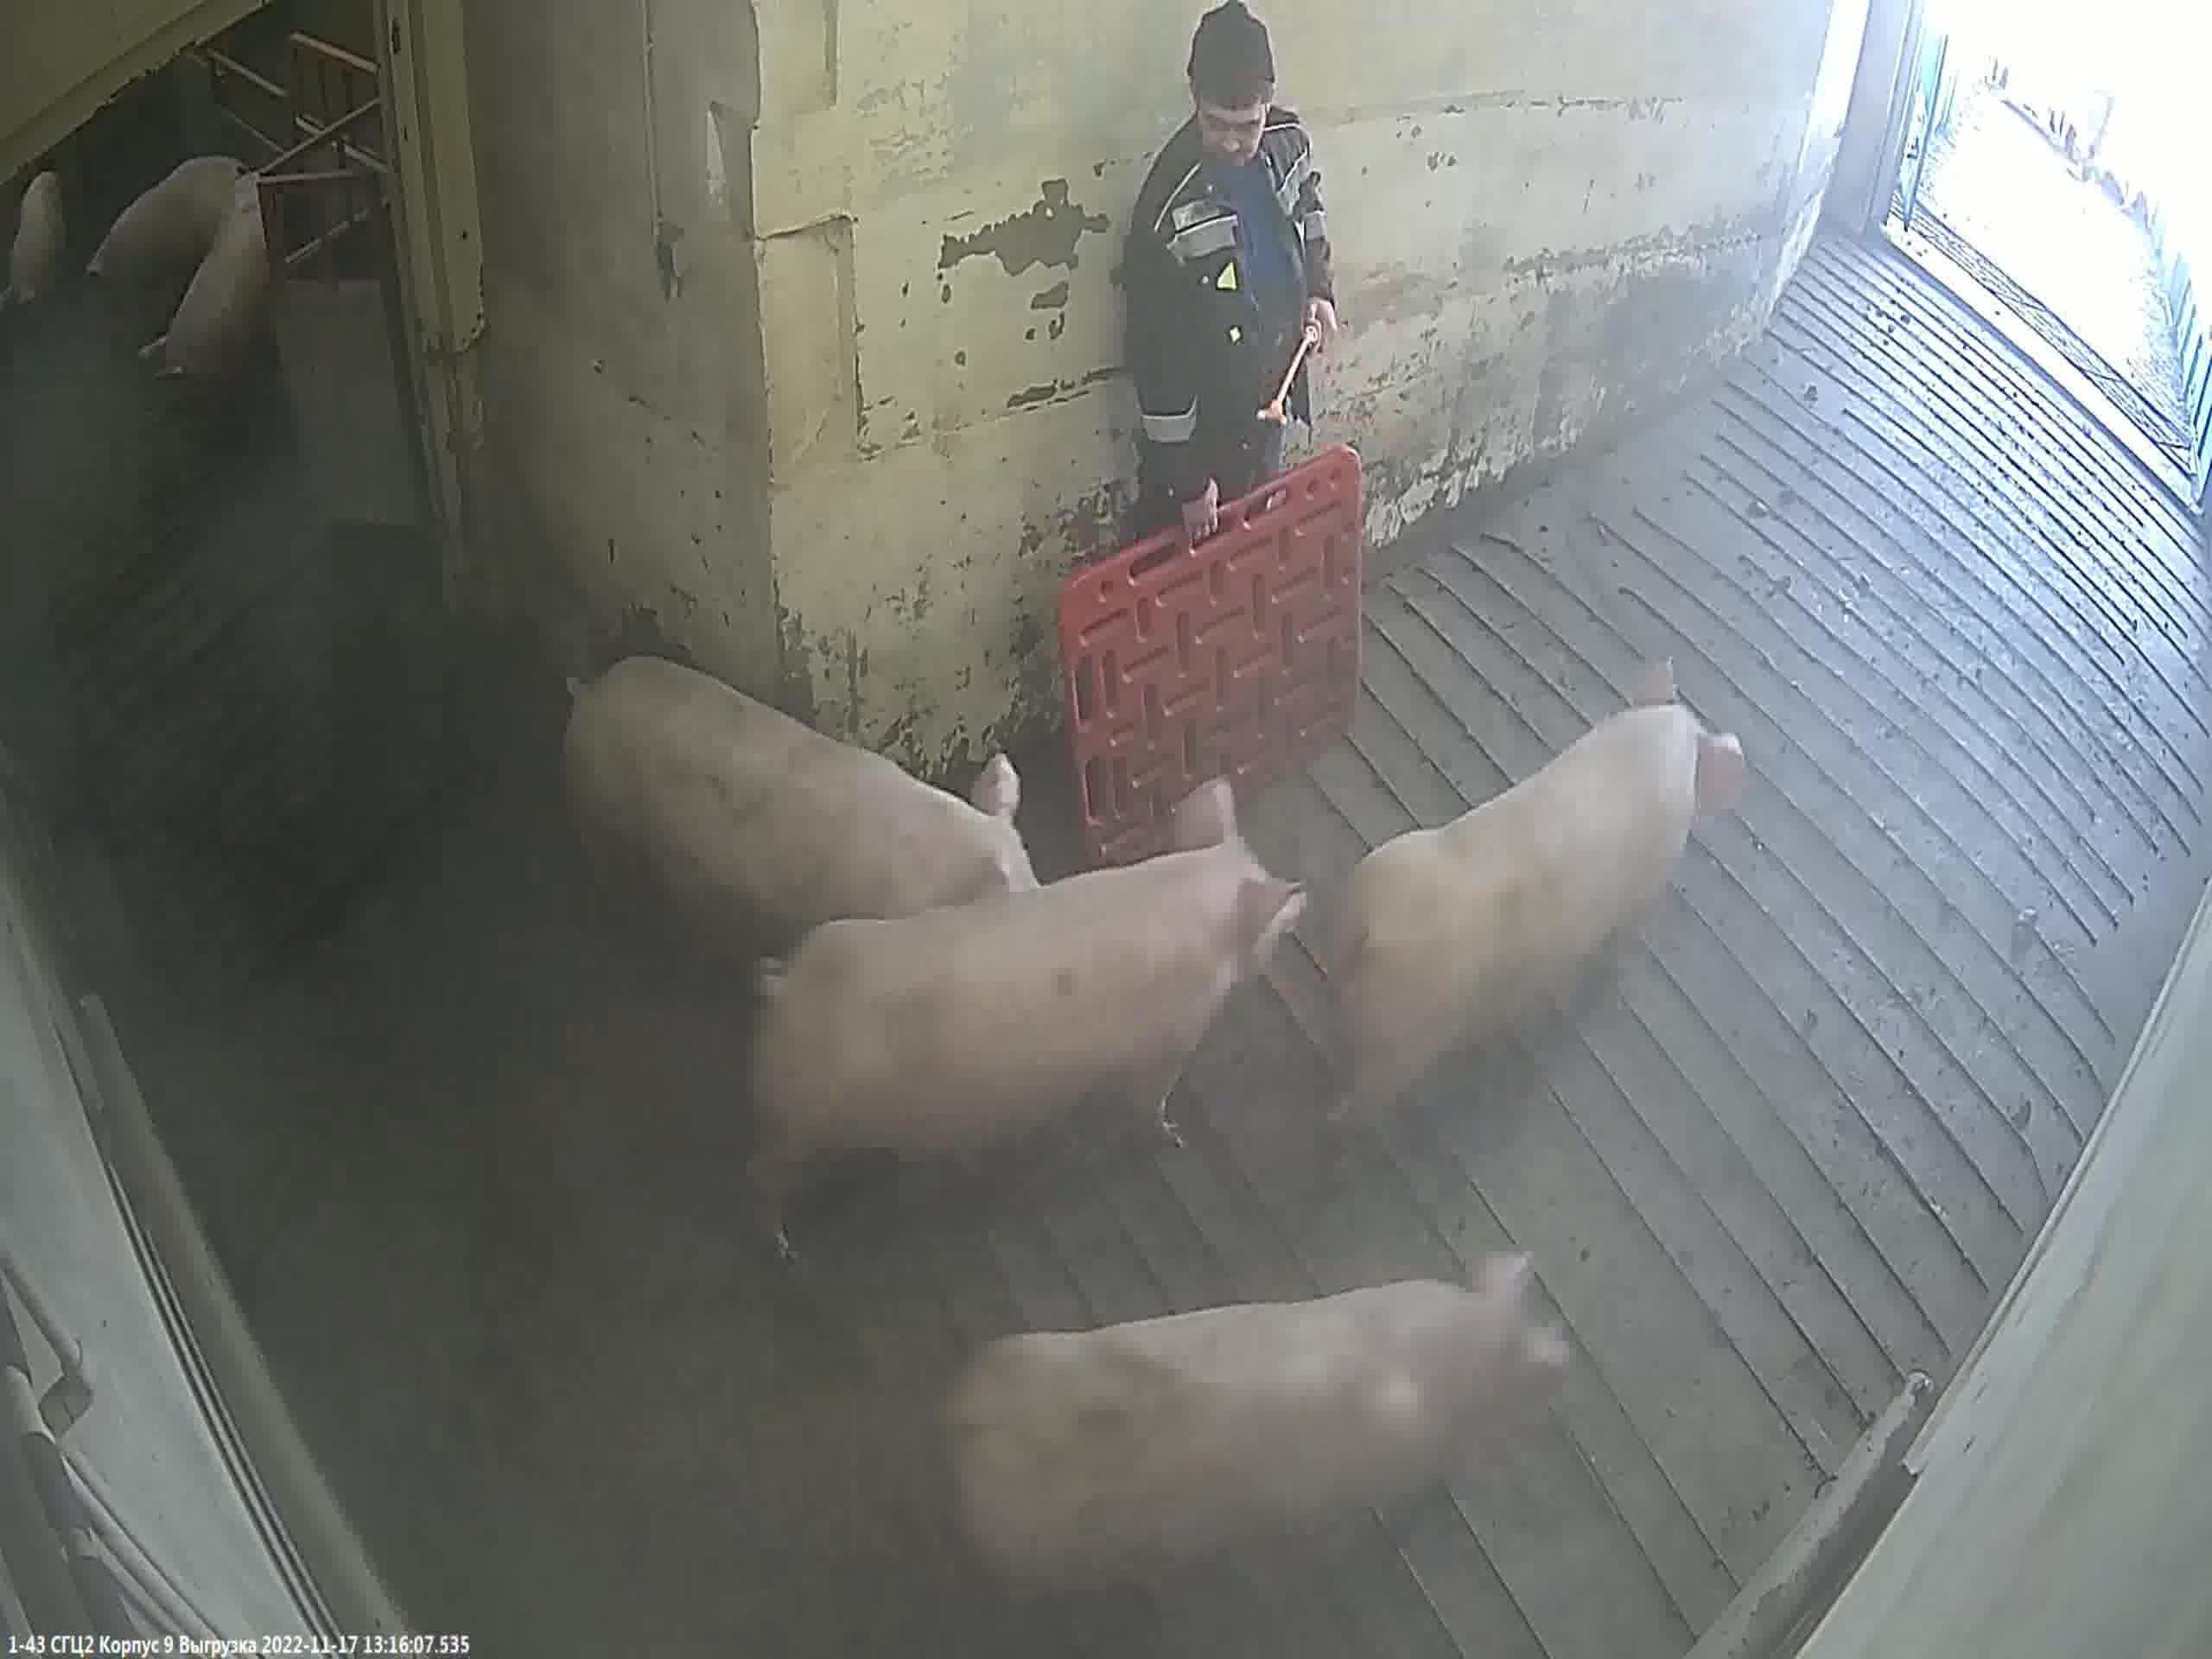Pigs: (745, 829, 1310, 1281), (946, 1255, 1538, 1605), (1327, 704, 1743, 1164), (563, 659, 1040, 992), (129, 192, 275, 420), (82, 159, 247, 300), (0, 197, 51, 298)
